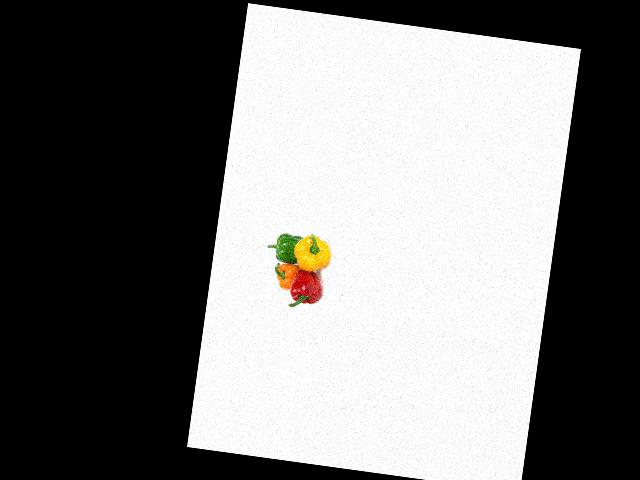bell_pepper: (291, 229, 334, 275)
